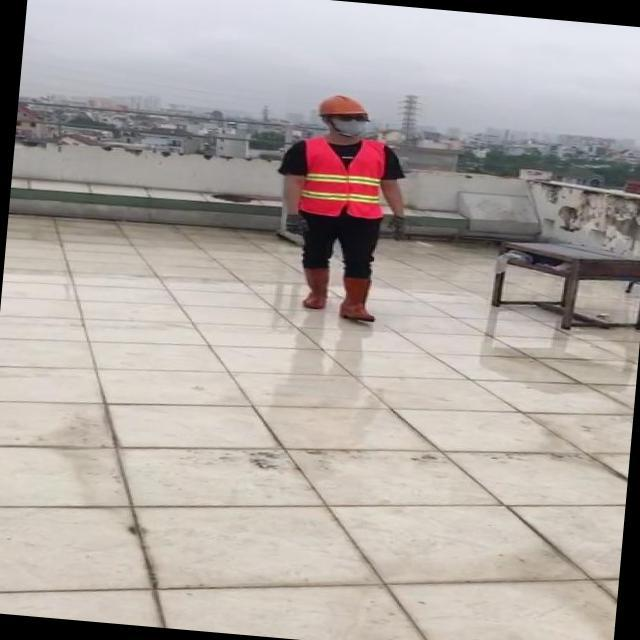Gloves: (385, 214, 410, 243), (281, 214, 307, 237)
Helmet: (313, 92, 373, 121)
Human: (267, 84, 428, 333)
Safety Boot: (340, 276, 382, 323), (296, 264, 332, 311)
Safety Vest: (297, 133, 388, 219)
